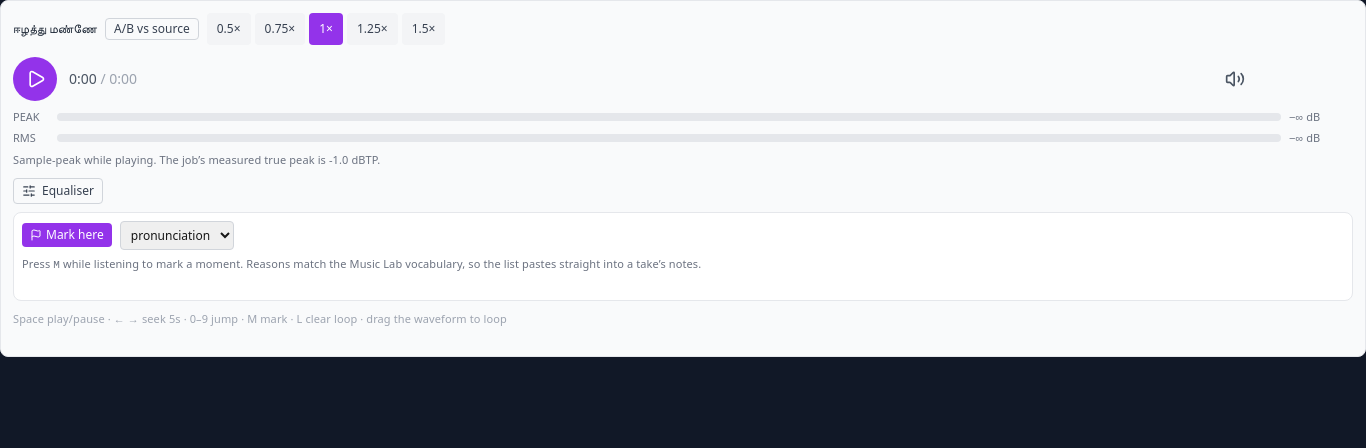
Test case: playback rate — the composer control › WARNS when the browser cannot preserve pitch — a transposed vowel cannot be judged
The width and height of the screenshot is (1366, 448).
What coordinates should you click on to do the following:
click the button "0.5×"
I would click on:
 (229, 29)
Its box is [207, 13, 251, 45].
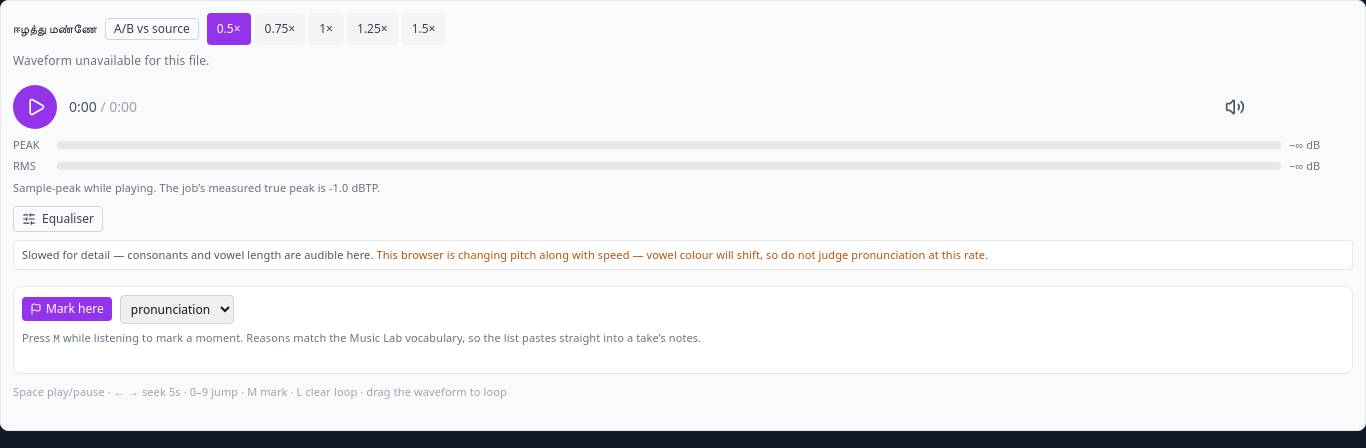
Now the text "changing pitch along with speed" is shown, box [376, 247, 988, 262]
